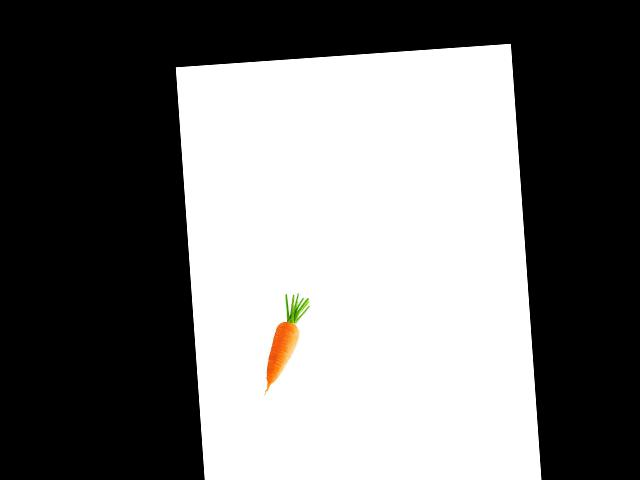carrot: (259, 331, 306, 395)
